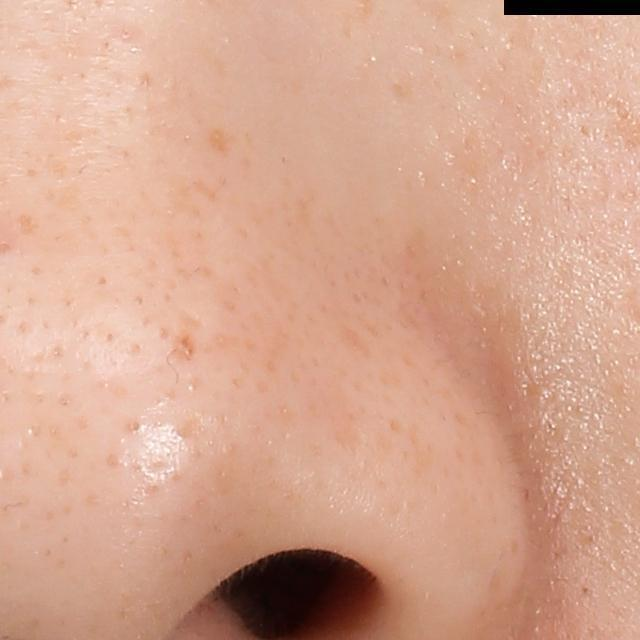melasma: (207, 120, 235, 164)
